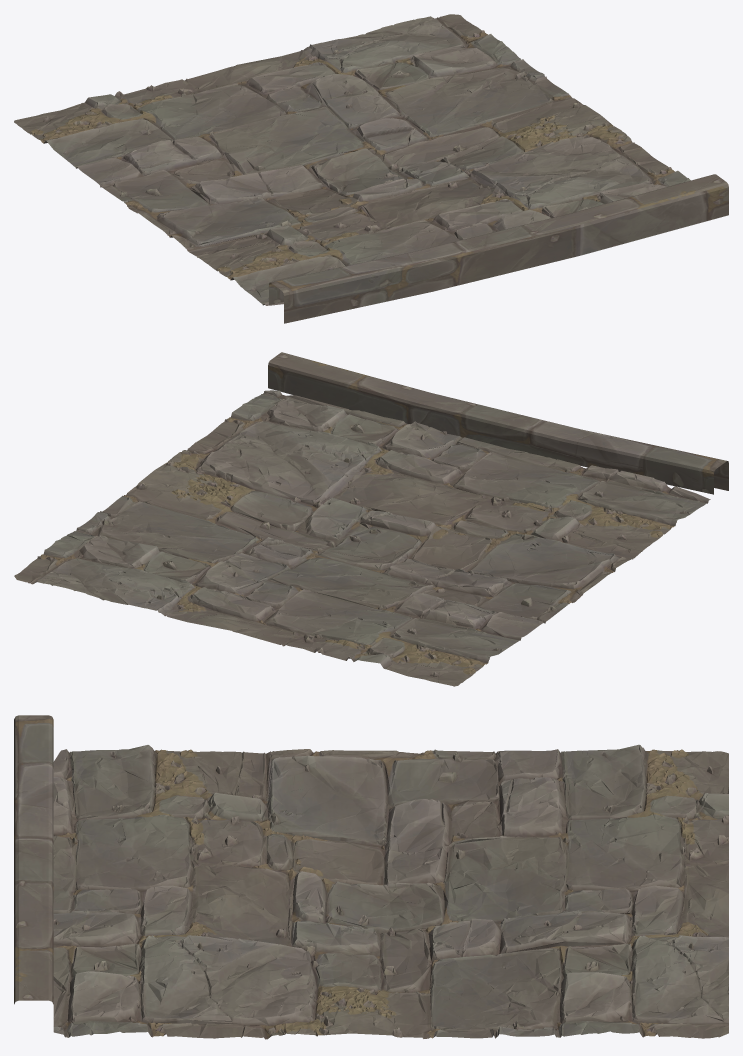
File: Suelo3.fbx
3 renders of one model, top to bottom at view 1: azimuth 30°, elevation 25°; view 2: azimuth 150°, elevation 25°; view 3: azimuth 270°, elevation 25°, orthographic. The views are drawn at different scales.
Parts seen in each view (by area): view 1: Plane.001; view 2: Plane.001; view 3: Plane.001.
Boxes of the visible parts, x1=… form: Plane.001: x1=14, y1=14, x2=728, y2=323; Plane.001: x1=14, y1=352, x2=728, y2=686; Plane.001: x1=14, y1=715, x2=728, y2=1039.
Size of the model in its own units: 200 by 18.56 by 212.
1 material, 1 textured.
